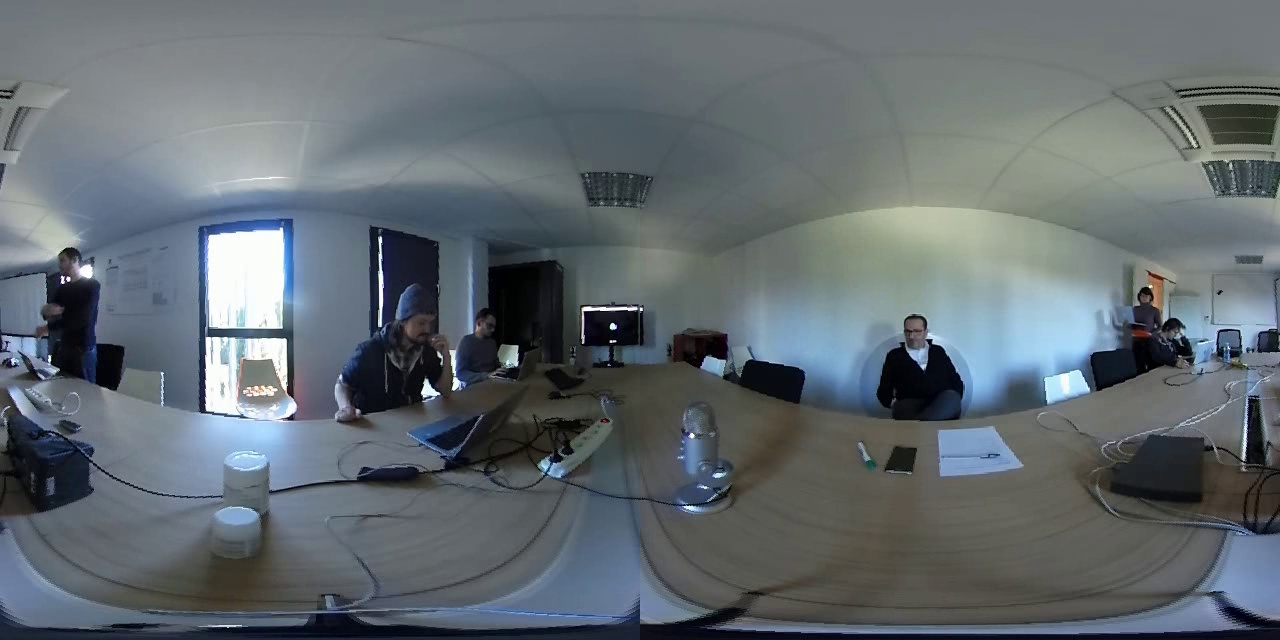person: (332, 267, 446, 422), (873, 292, 968, 431), (38, 237, 119, 373), (459, 307, 510, 383), (1128, 282, 1158, 356), (1161, 315, 1194, 368)
